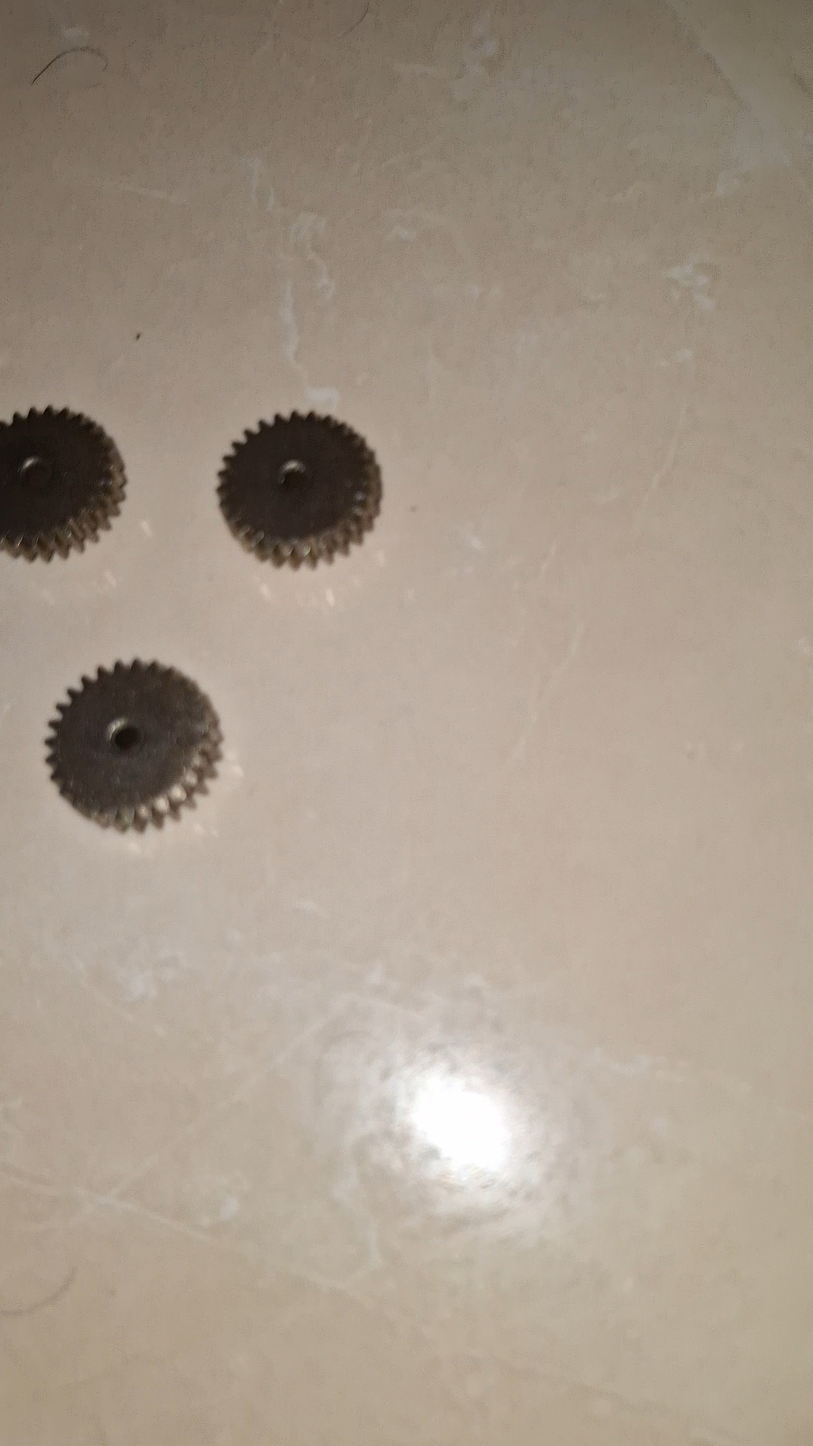spur gear: (47, 660, 221, 830), (218, 412, 382, 567), (0, 408, 125, 560)
